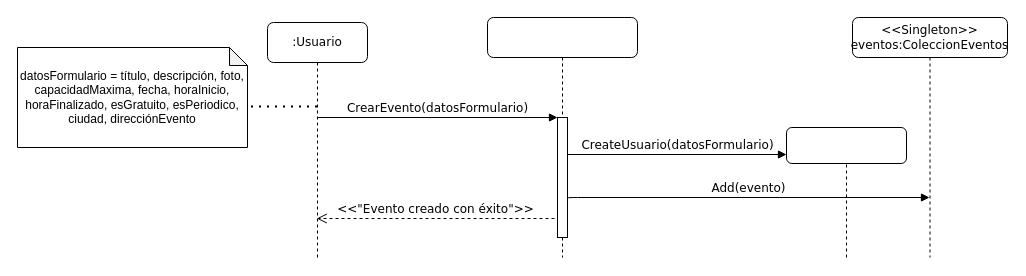
This 1026x276 diagram has some shape labels left out. The shapes that lost their labels are listed below. From the top down, each one's box as (x1, y1, x2, y2) in pixels, then its label:
(486, 16, 638, 258): controladorEventos :ControladorEventos
(786, 126, 906, 164): evento:Evento
